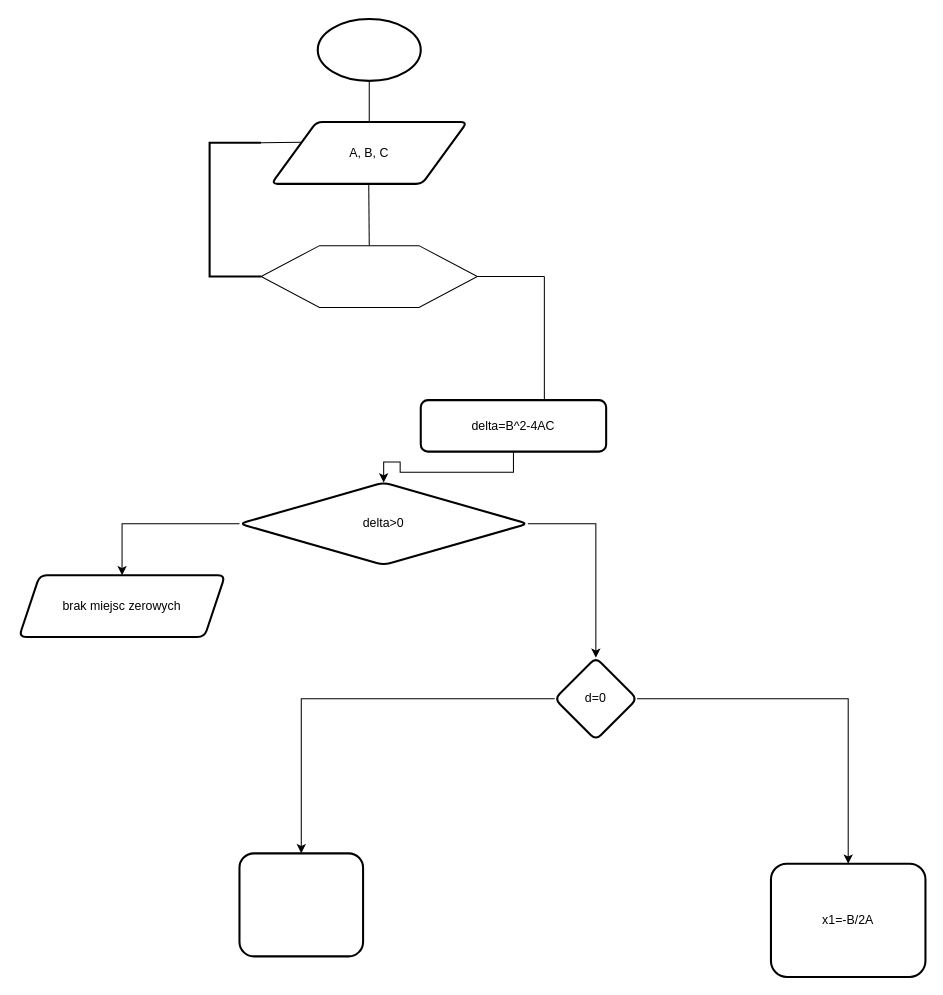
This 943x995 diagram has some shape labels left out. The shapes that lost their labels are listed below. From the top down, each one's centre as x and y in pixels, then its label:
At (368,49): "START".
At (368,276): "A=0".
At (301,904): "x1=(-B+src(delta))/A x2=(-B-src(delta))/A".
